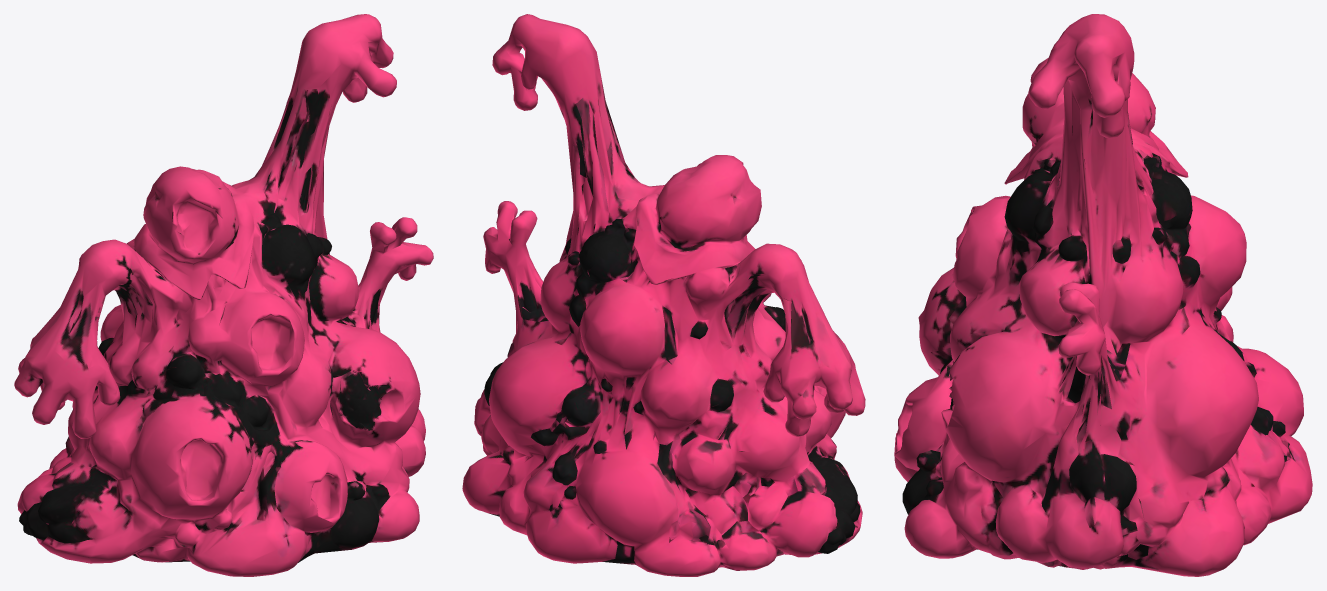
The model's file is monton.glb.
3 renders of one model, left to right at view 1: azimuth 30°, elevation 25°; view 2: azimuth 150°, elevation 25°; view 3: azimuth 270°, elevation 25°, orthographic. The views are drawn at different scales.
Visible parts, largest first — view 1: Malla; view 2: Malla; view 3: Malla.
Part boxes in pixels (<box>): Malla: <box>14,14,433,576</box>; Malla: <box>462,14,865,576</box>; Malla: <box>894,14,1312,576</box>.
Bounding box in the file's own units: 2.33 × 2.6 × 1.84.
1 material, 1 textured.
